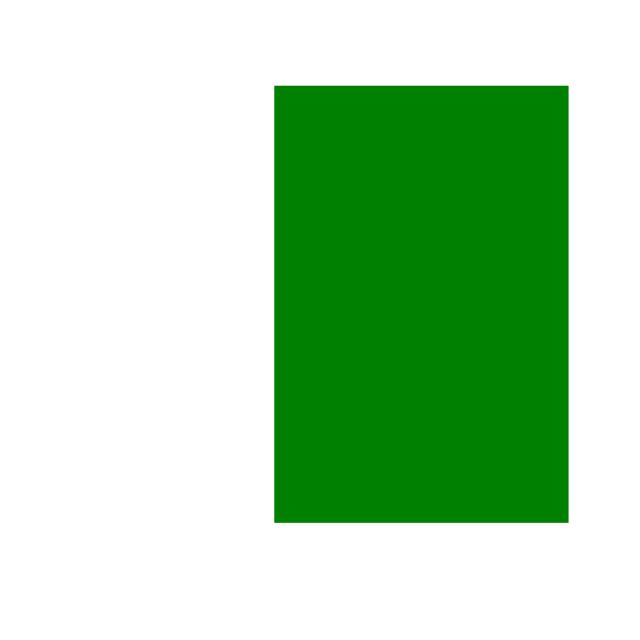Rectangle: (230, 64, 601, 586)
